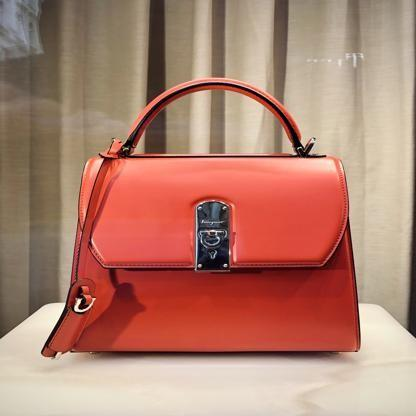not trash: (40, 76, 366, 364)
